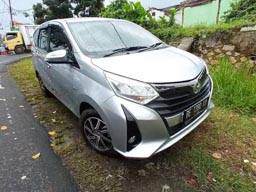plat: (184, 97, 209, 121)
